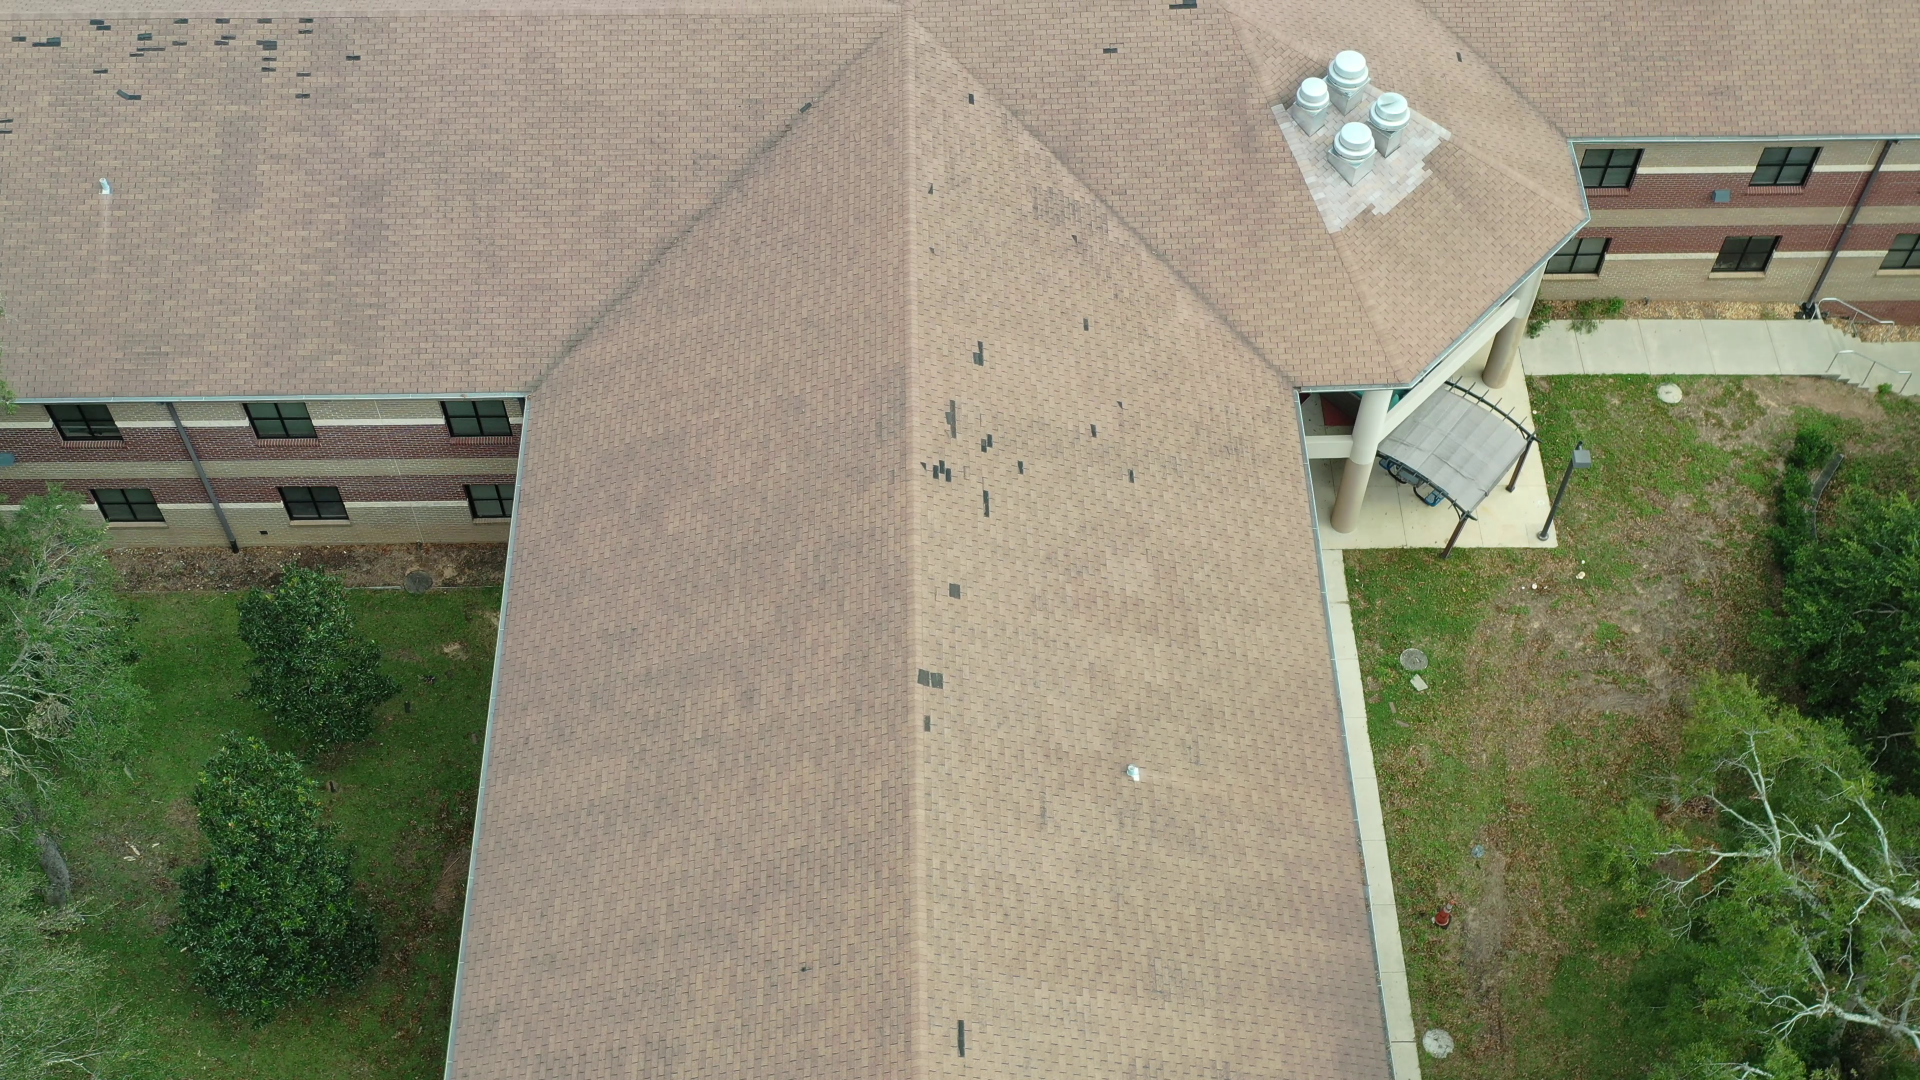Light: (11, 17, 361, 102), (919, 400, 1026, 520), (1091, 400, 1135, 485), (915, 667, 945, 735), (956, 1017, 967, 1059), (972, 342, 985, 367), (947, 582, 961, 600), (1168, 1, 1197, 11), (1081, 316, 1091, 334), (1101, 47, 1120, 55), (967, 92, 975, 105)
